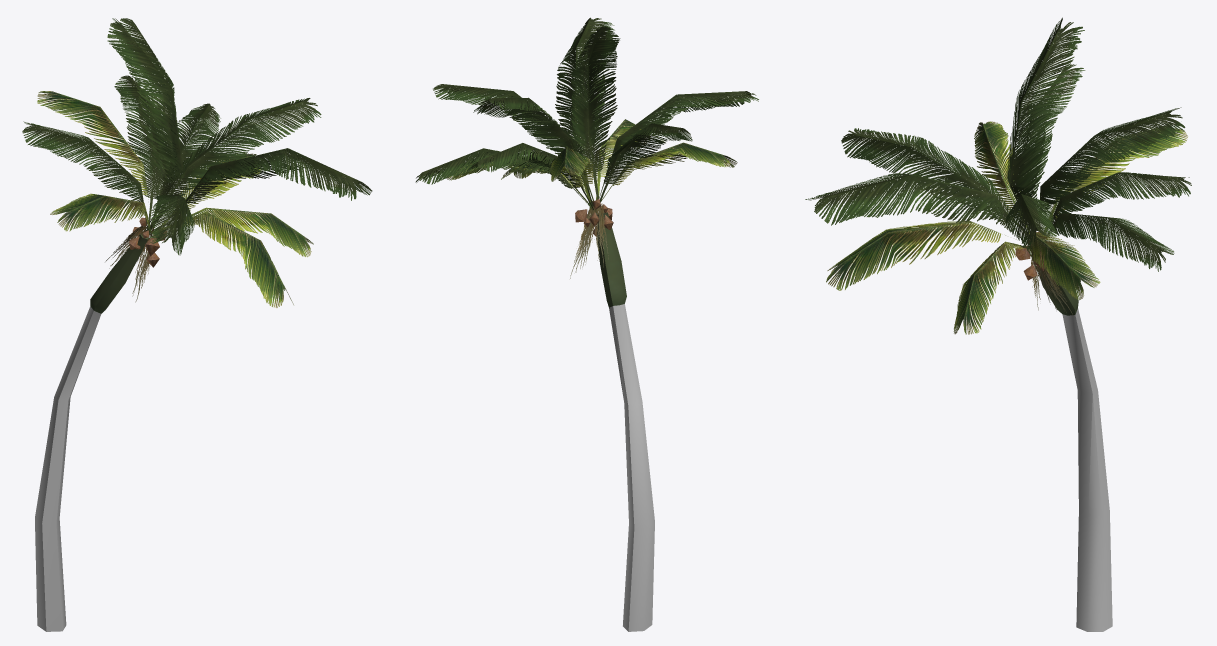
File: kiV4_LOD1.fbx
The picture shows the model from 3 angles, left to right: view 1: azimuth 30°, elevation 25°; view 2: azimuth 150°, elevation 25°; view 3: azimuth 270°, elevation 25°; orthographic projection. The views are drawn at different scales.
Parts seen in each view (by area): view 1: Mesh Object; view 2: Mesh Object; view 3: Mesh Object.
Part boxes in pixels (left/top/right/bottom): Mesh Object: left=22, top=18, right=372, bottom=631; Mesh Object: left=415, top=17, right=758, bottom=631; Mesh Object: left=805, top=17, right=1191, bottom=631.
Size of the model in its own units: 22.92 by 44.97 by 26.09.
